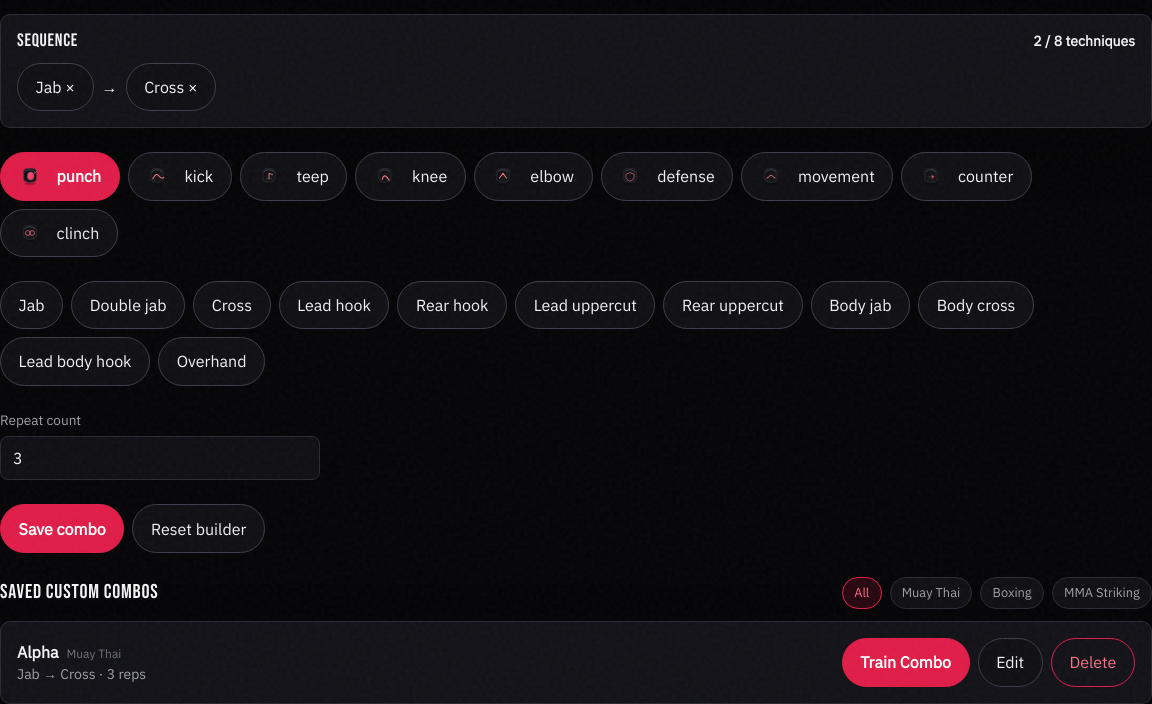
Test: S1 Builder delete while editing › clears editing identity after deleting the combo currently being edited
(page scrolled)
What coordinates should you click on to do the following:
click the button "Edit"
I would click on:
 (1010, 662)
Its box is left=978, top=638, right=1043, bottom=687.
(page scrolled)
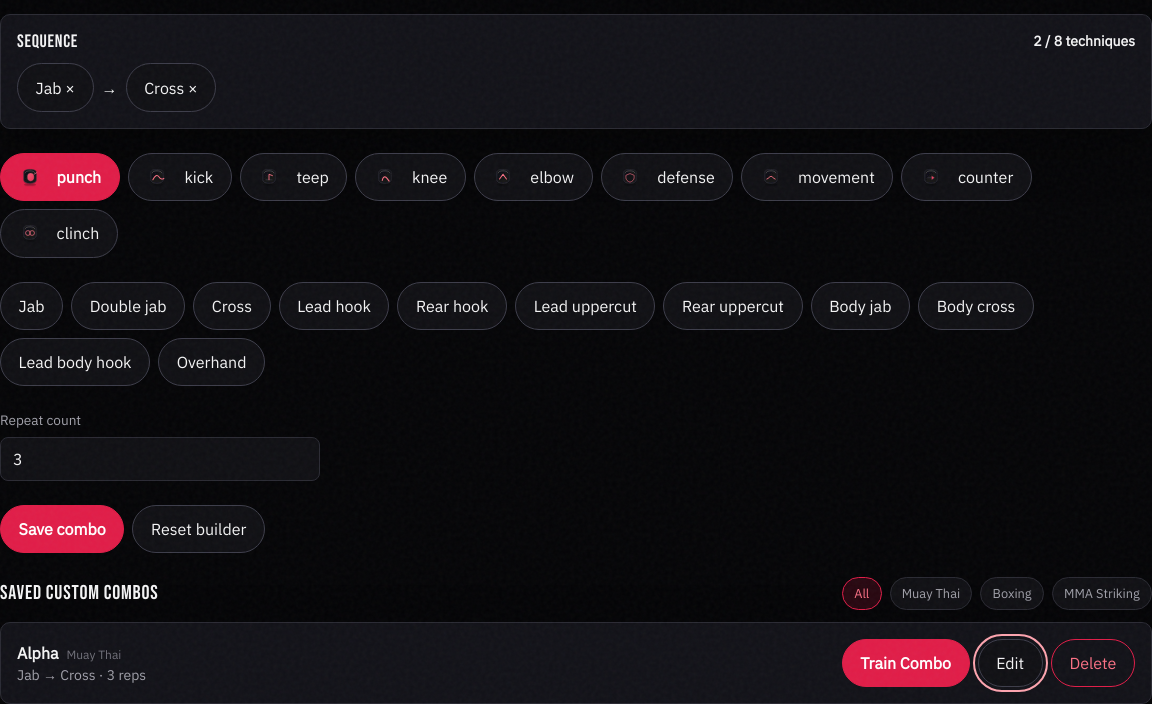
What coordinates should you click on to do the following:
click the button "Delete"
I would click on:
 (1093, 663)
Its box is left=1051, top=639, right=1135, bottom=687.
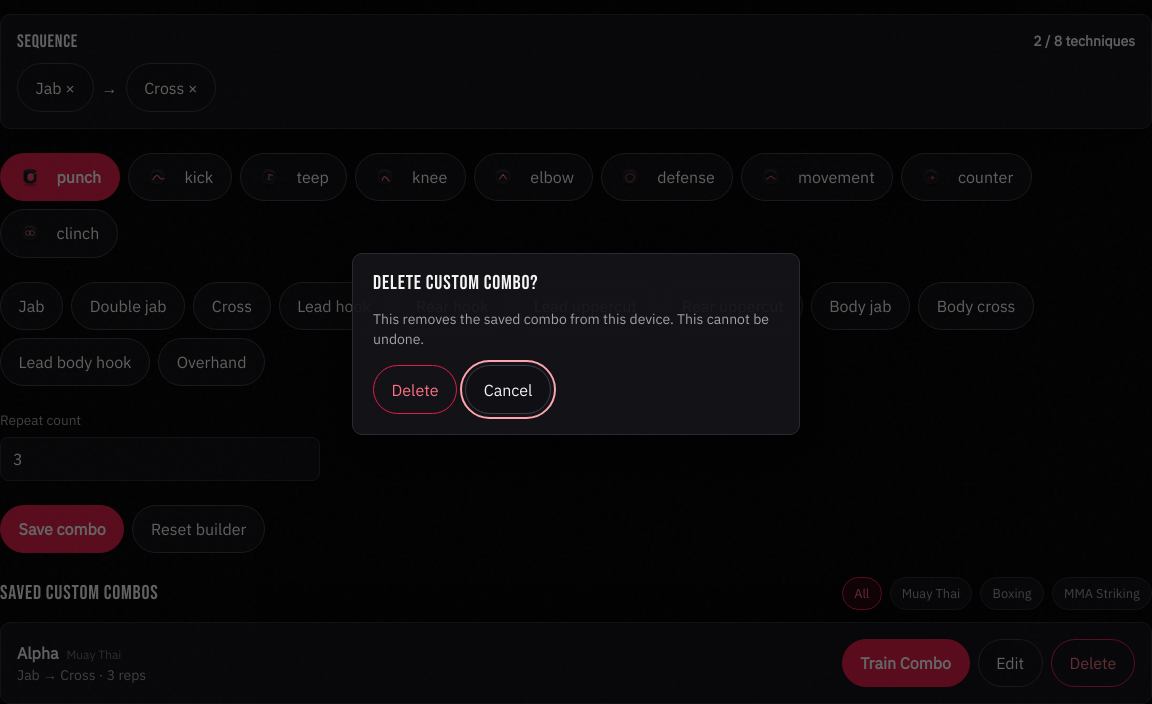
What coordinates should you click on to do the following:
click the button "Delete"
I would click on:
 (415, 390)
Its box is left=373, top=365, right=457, bottom=414.
(page scrolled)
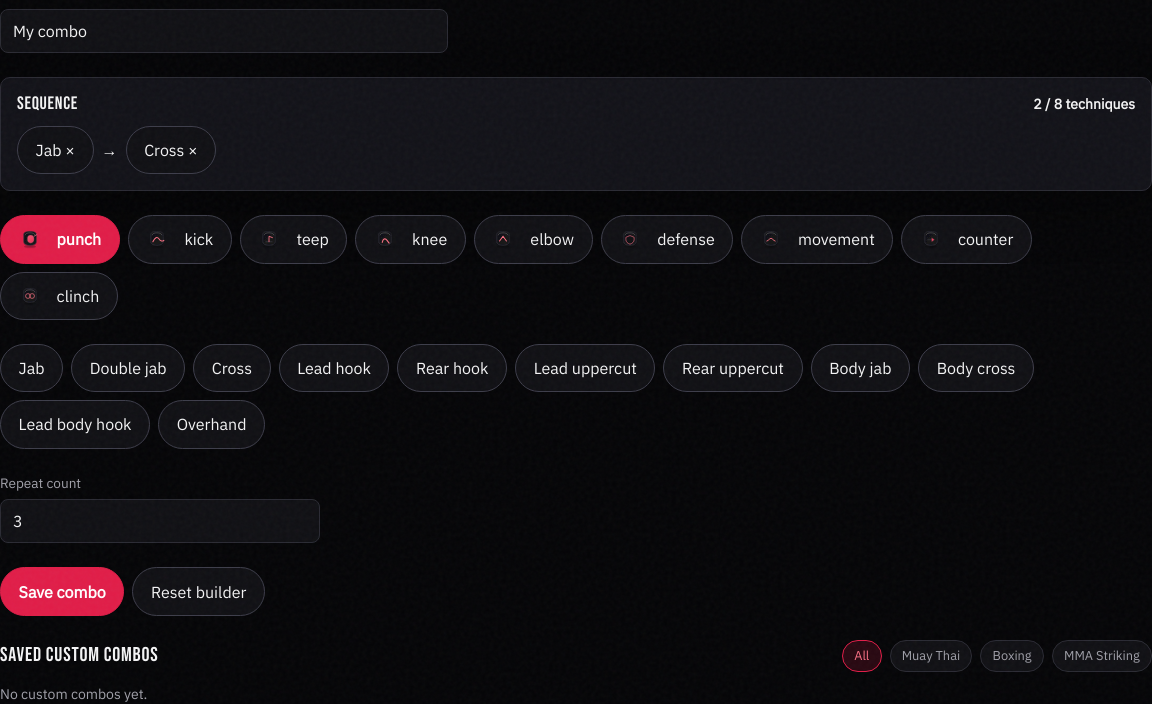
Expected: the heading "Delete custom combo" is gone
Expected: the text "Alpha" is gone
